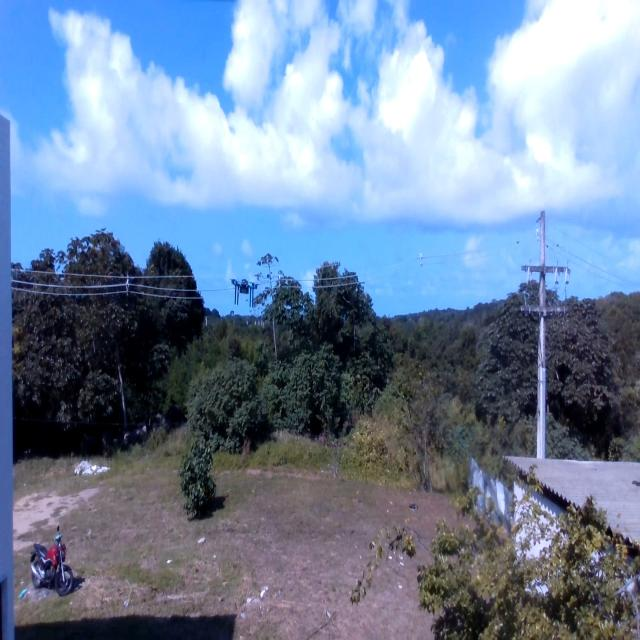-uav-: (230, 270, 261, 322)
